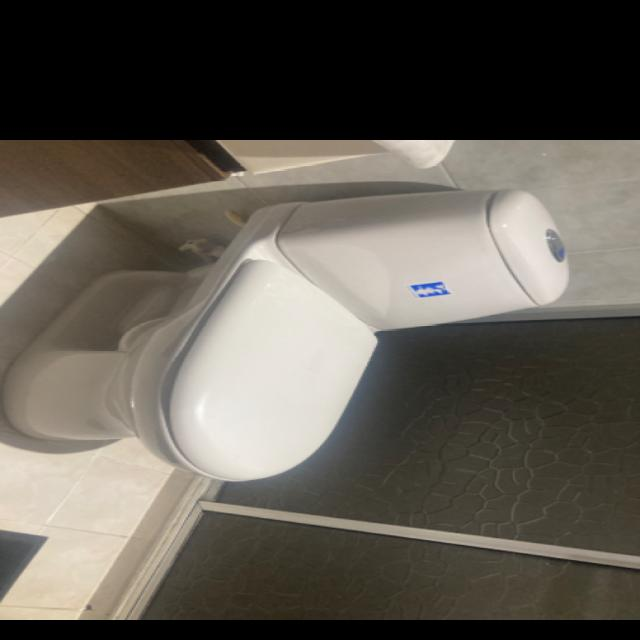toilet: (1, 186, 569, 482)
